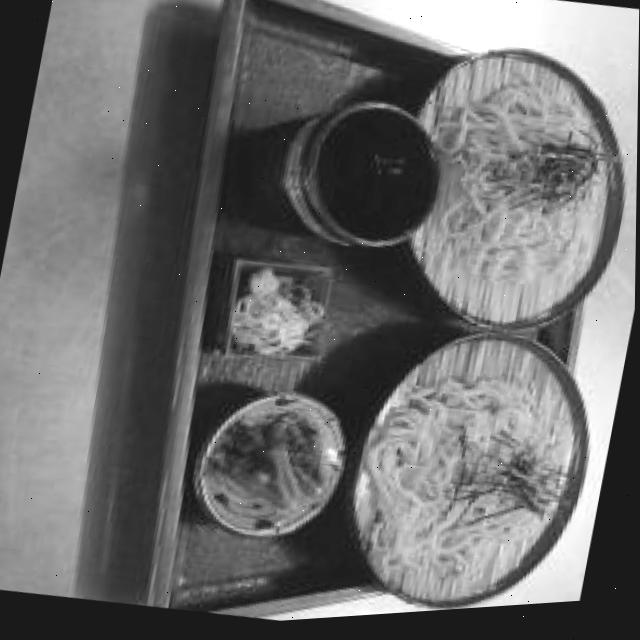面条主食: (294, 24, 639, 624)
